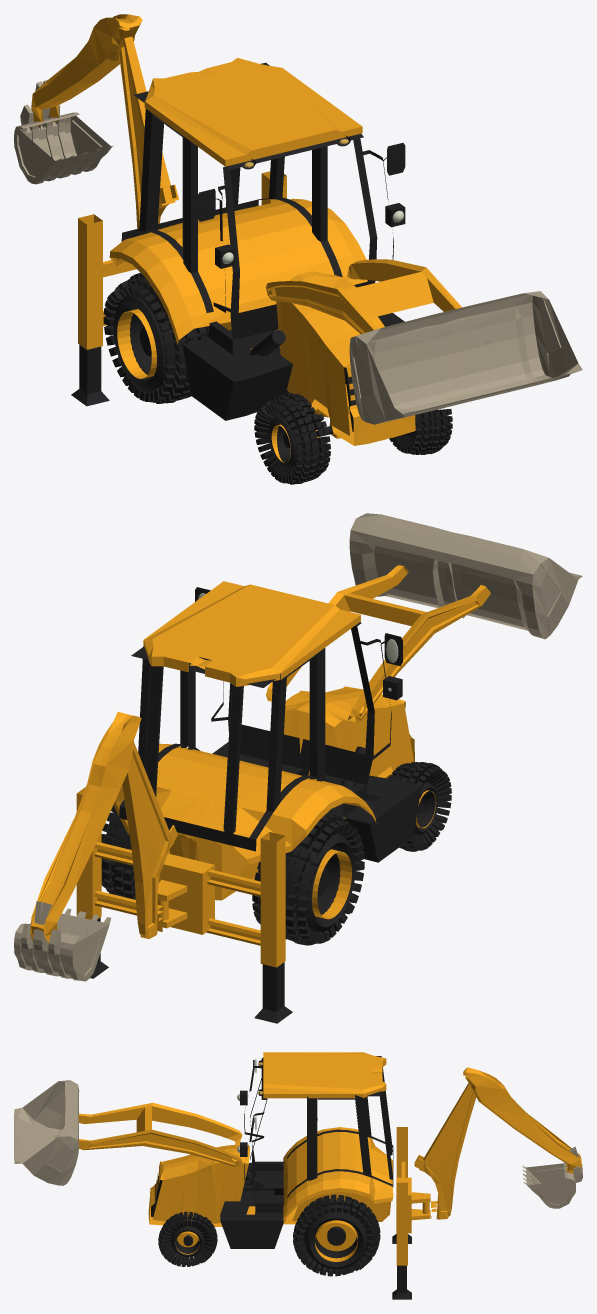
The model's file is BackhoeLoader2014.dae.
3 renders of one model, top to bottom at view 1: azimuth 30°, elevation 25°; view 2: azimuth 150°, elevation 25°; view 3: azimuth 270°, elevation 25°, orthographic. The views are drawn at different scales.
Visible parts, largest first — view 1: Body, CabFrame, LoaderBucket, CabRoofTop, loaderLiftArm, RightBackTire, rockBucket, rightFrontTire, Arm, SwingFrame, BackhoeBoom, LeftFrontTire (+2 smaller); view 2: CabFrame, Body, LoaderBucket, CabRoofTop, SwingFrame, Arm, RightBackTire, loaderLiftArm, BackhoeBoom, rockBucket, rightFrontTire, LeftBackTire (+2 smaller); view 3: Body, CabFrame, CabRoofTop, LoaderBucket, loaderLiftArm, LeftBackTire, BackhoeBoom, Arm, LeftFrontTire, SwingFrame, rockBucket, leftBackRim (+1 smaller).
Part boxes in pixels (bbox=[...]): Body: bbox=[109, 198, 415, 445]; CabFrame: bbox=[121, 62, 405, 420]; LoaderBucket: bbox=[349, 291, 582, 424]; CabRoofTop: bbox=[144, 57, 362, 166]; loaderLiftArm: bbox=[265, 259, 489, 362]; RightBackTire: bbox=[103, 272, 208, 403]; rockBucket: bbox=[14, 80, 113, 184]; rightFrontTire: bbox=[254, 393, 330, 484]; Arm: bbox=[31, 14, 142, 126]; SwingFrame: bbox=[78, 171, 286, 349]; BackhoeBoom: bbox=[119, 27, 178, 228]; LeftFrontTire: bbox=[389, 409, 452, 454]; CabFrame: bbox=[119, 587, 421, 862]; Body: bbox=[113, 686, 414, 900]; LoaderBucket: bbox=[349, 513, 582, 639]; CabRoofTop: bbox=[143, 581, 360, 686]; SwingFrame: bbox=[76, 787, 285, 967]; Arm: bbox=[30, 711, 141, 942]; RightBackTire: bbox=[252, 813, 364, 945]; loaderLiftArm: bbox=[266, 565, 490, 722]; BackhoeBoom: bbox=[122, 742, 177, 938]; rockBucket: bbox=[14, 901, 111, 981]; rightFrontTire: bbox=[388, 762, 451, 851]; LeftBackTire: bbox=[101, 804, 135, 899]; Body: bbox=[148, 1127, 393, 1226]; CabFrame: bbox=[220, 1056, 393, 1248]; CabRoofTop: bbox=[263, 1052, 386, 1098]; LoaderBucket: bbox=[14, 1080, 79, 1185]; loaderLiftArm: bbox=[78, 1102, 242, 1166]; LeftBackTire: bbox=[293, 1194, 380, 1276]; BackhoeBoom: bbox=[414, 1083, 476, 1219]; Arm: bbox=[463, 1067, 581, 1173]; LeftFrontTire: bbox=[158, 1211, 217, 1266]; SwingFrame: bbox=[396, 1127, 430, 1265]; rockBucket: bbox=[522, 1146, 582, 1208]; leftBackRim: bbox=[315, 1220, 357, 1261].
Bounding box in the file's own units: 7.44 × 27.07 × 10.38.
